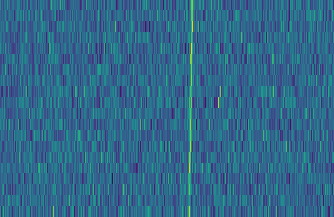signal: (184, 0, 196, 217)
